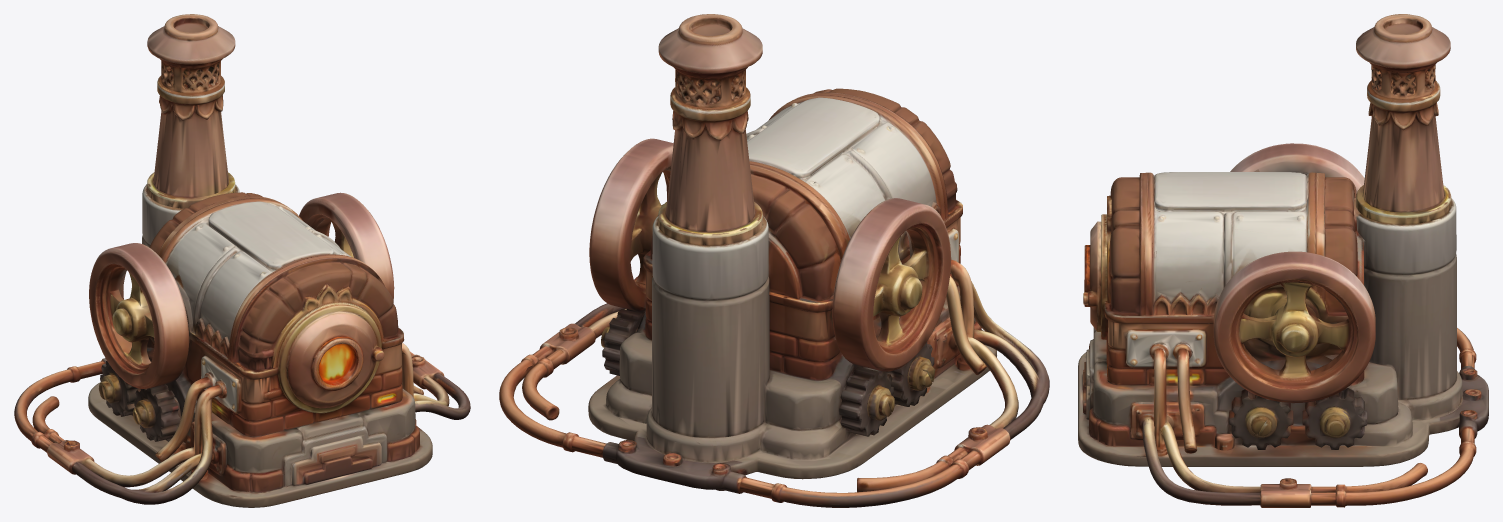
The model's file is coal_burner.glb.
3 views of the same model, side by side, from view 1: azimuth 30°, elevation 25°; view 2: azimuth 150°, elevation 25°; view 3: azimuth 270°, elevation 25° (orthographic). The views are drawn at different scales.
Visible parts, largest first — view 1: node_0; view 2: node_0; view 3: node_0.
Part boxes in pixels (left/top/right/bottom): node_0: left=14, top=14, right=470, bottom=507; node_0: left=499, top=14, right=1049, bottom=507; node_0: left=1078, top=14, right=1488, bottom=507.
Size of the model in its own units: 0.8598 by 0.7844 by 0.7556.
Materials: 1 (1 with a texture image).
